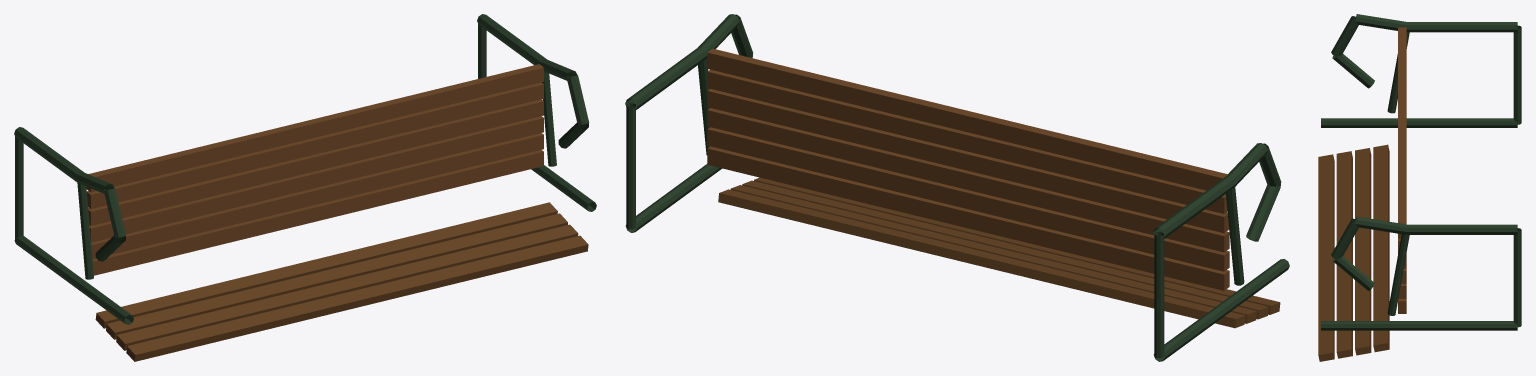
File: VD_Bench_Municipal_Intact.obj
The picture shows the model from 3 angles, left to right: view 1: azimuth 30°, elevation 25°; view 2: azimuth 150°, elevation 25°; view 3: azimuth 270°, elevation 25°; orthographic projection. The views are drawn at different scales.
Visible parts, largest first — view 1: VD_Bench_Municipal_Intact; view 2: VD_Bench_Municipal_Intact; view 3: VD_Bench_Municipal_Intact.
Boxes of the visible parts, x1,y1,x2,y2 form: VD_Bench_Municipal_Intact: (14,14,596,361); VD_Bench_Municipal_Intact: (625,14,1289,361); VD_Bench_Municipal_Intact: (1318,14,1521,361).
Bounding box in the file's own units: 194 × 64.44 × 80.61.
